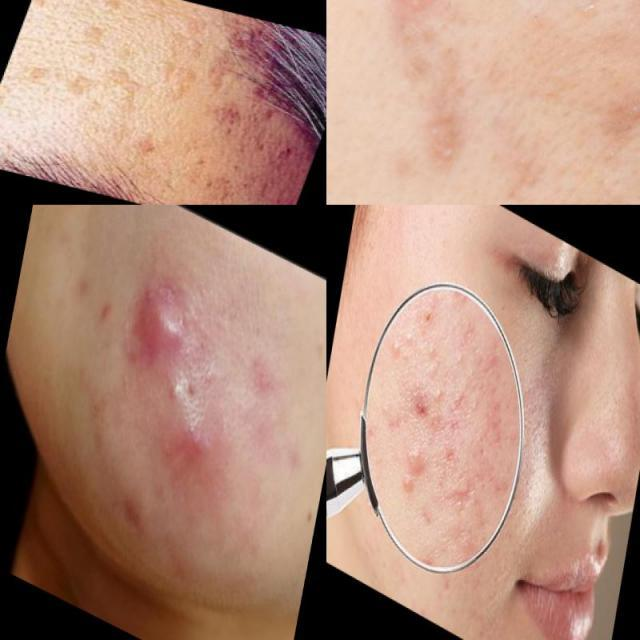Pimples: (367, 49, 497, 204), (110, 249, 208, 401), (154, 384, 233, 511), (442, 478, 472, 532), (444, 384, 466, 435), (394, 464, 419, 506), (406, 389, 428, 424)
